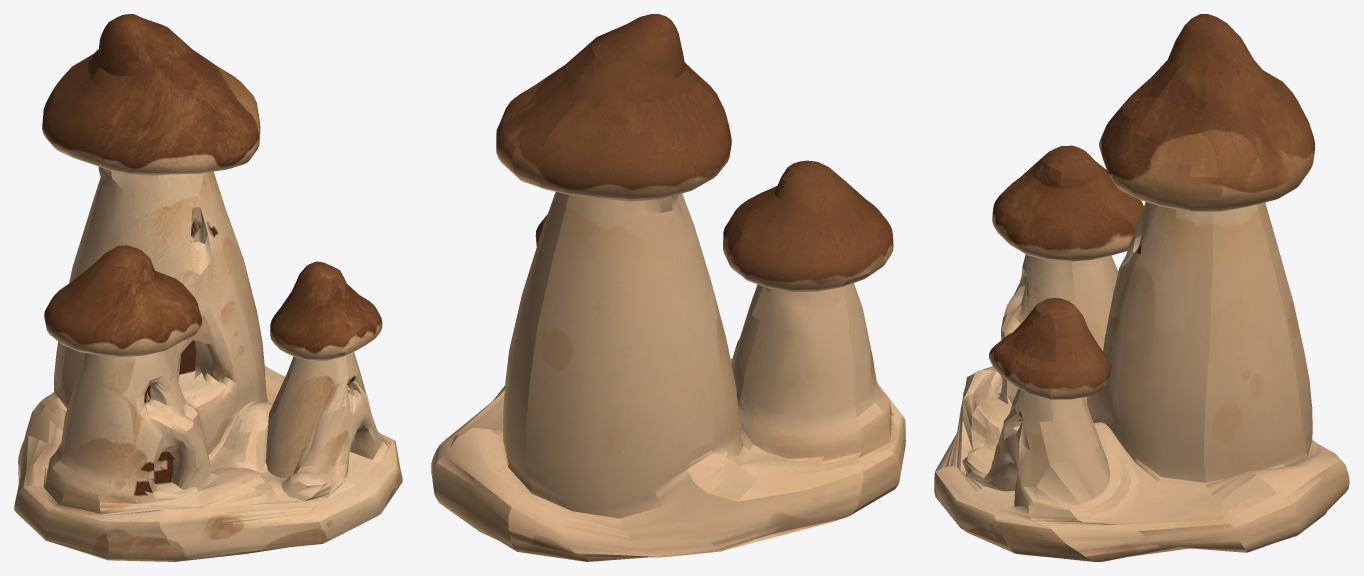
The model's file is peri-bacasi.glb.
3 renders of one model, left to right at view 1: azimuth 30°, elevation 25°; view 2: azimuth 150°, elevation 25°; view 3: azimuth 270°, elevation 25°, orthographic. The views are drawn at different scales.
Parts seen in each view (by area): view 1: Mesh0; view 2: Mesh0; view 3: Mesh0.
Boxes of the visible parts, left/top/right/bottom form: Mesh0: left=14, top=14, right=402, bottom=561; Mesh0: left=431, top=14, right=905, bottom=561; Mesh0: left=934, top=14, right=1349, bottom=561.
Bounding box in the file's own units: 1.56 × 1.9 × 1.58.
1 material, 1 textured.
